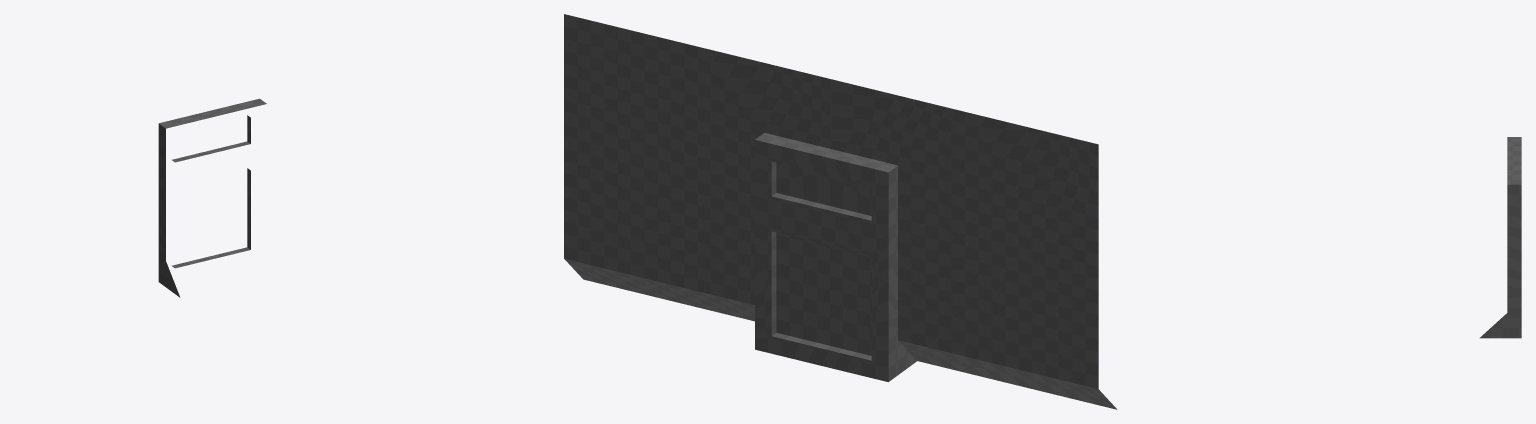
The picture shows the model from 3 angles, left to right: view 1: azimuth 30°, elevation 25°; view 2: azimuth 150°, elevation 25°; view 3: azimuth 270°, elevation 25°; orthographic projection. The views are drawn at different scales.
Parts seen in each view (by area): view 1: 1; view 2: 1; view 3: 1.
Boxes of the visible parts, x1=… form: 1: x1=158, y1=98, x2=266, y2=297; 1: x1=564, y1=14, x2=1117, y2=409; 1: x1=1479, y1=137, x2=1521, y2=338.
Bounding box in the file's own units: 4 × 2 × 2.12.
Materials: 2 (2 with a texture image).
